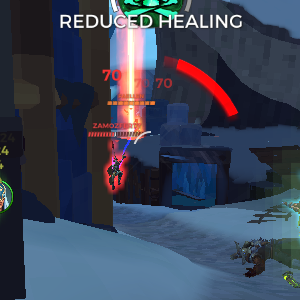model: (103, 151, 127, 195)
